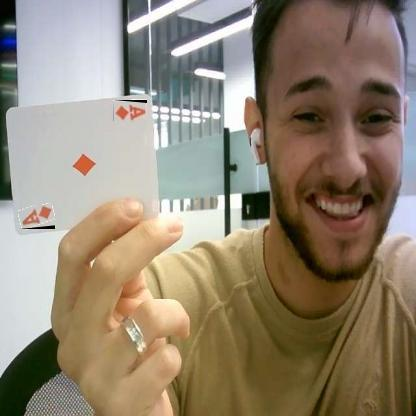AD: (19, 205, 55, 229), (113, 100, 147, 121)
